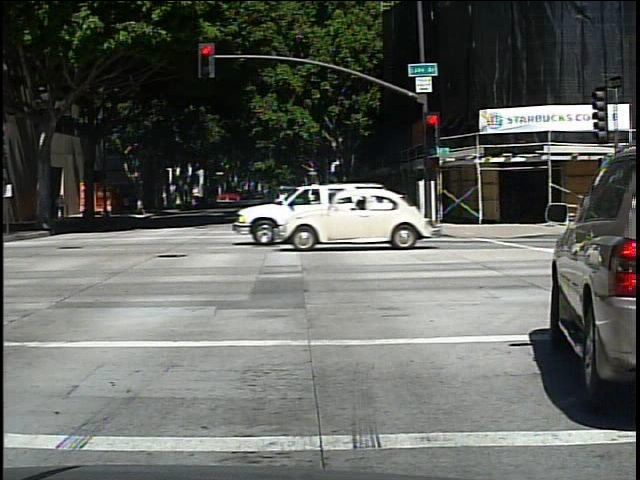person: (57, 189, 70, 223)
